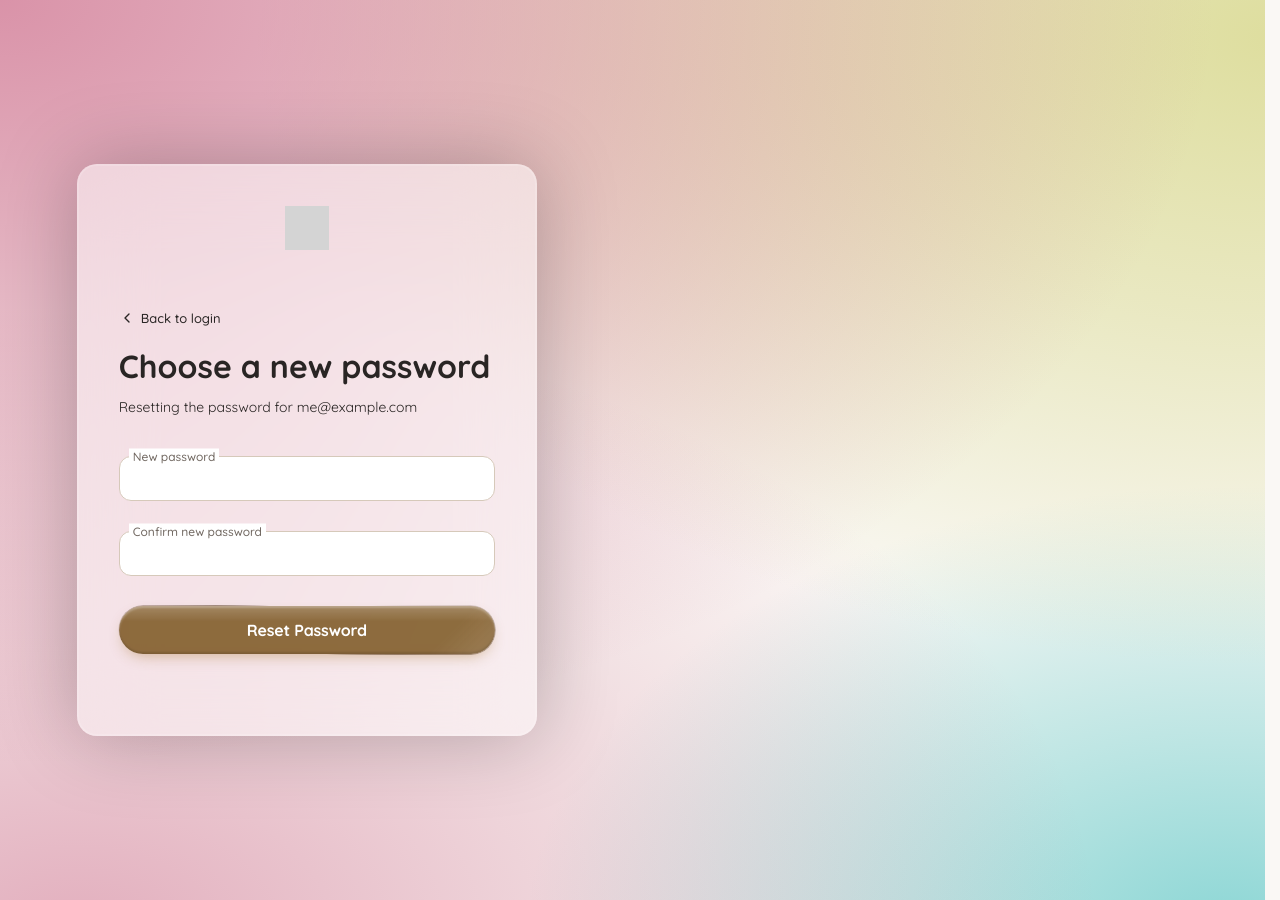
Reset password form › shows an invalid, expired or already used link as such
Type "brand-new-pass-1" into the password field labelled "New password" at [307, 478], box [119,456,495,501]
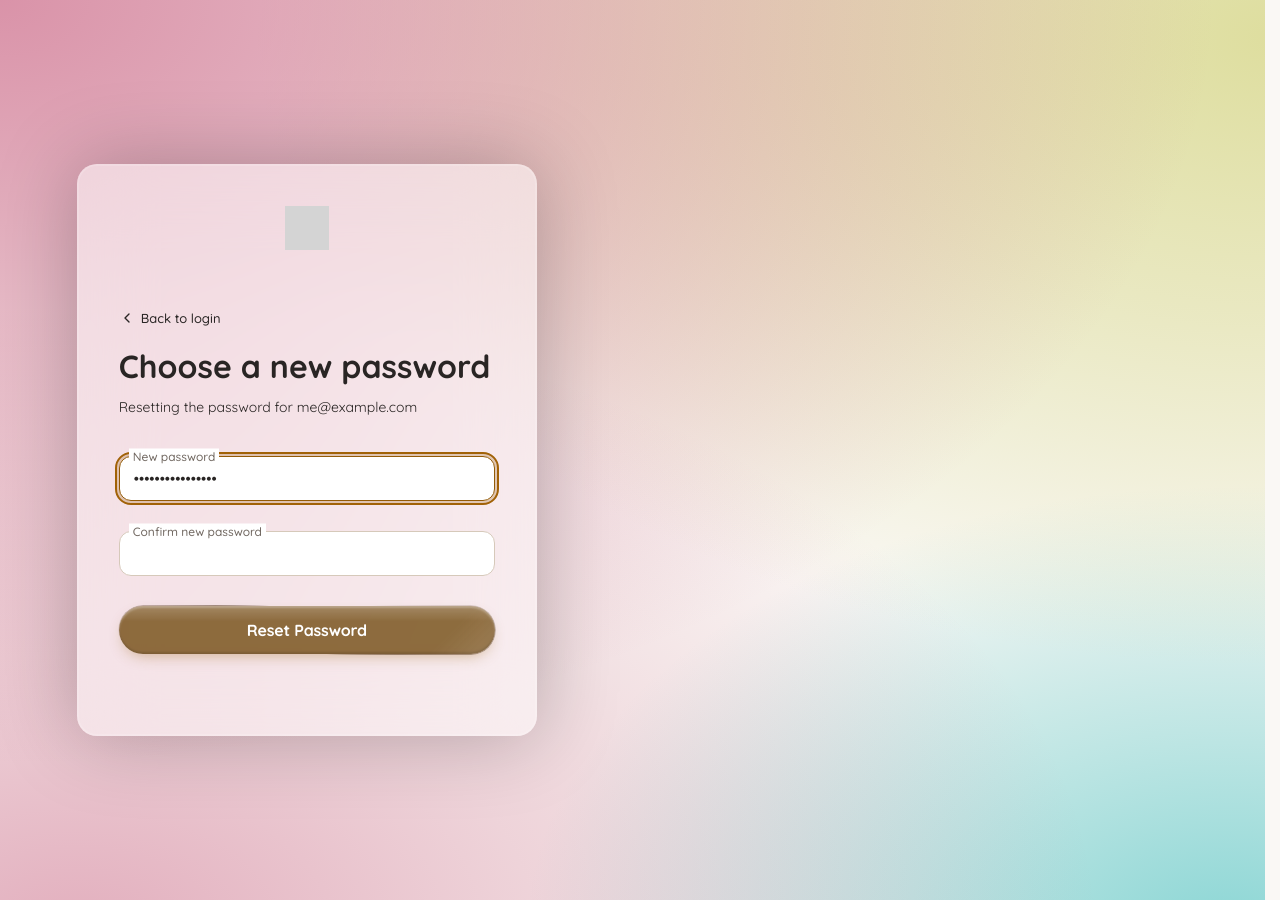
Type "brand-new-pass-1" into the password field labelled "Confirm new password" at [307, 554], box [119,531,495,576]
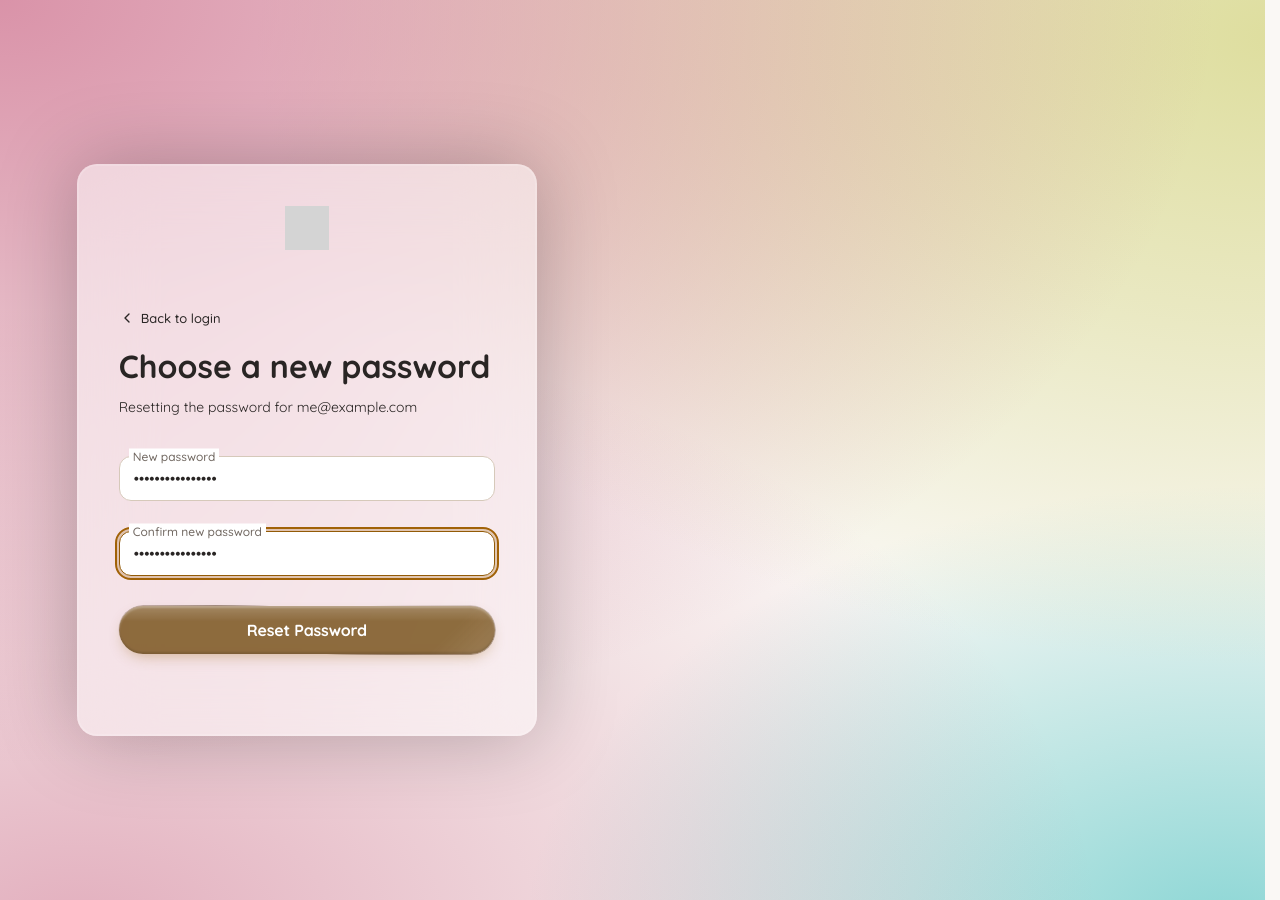
Click the button "Reset Password" at [307, 630], box [119,606,495,654]
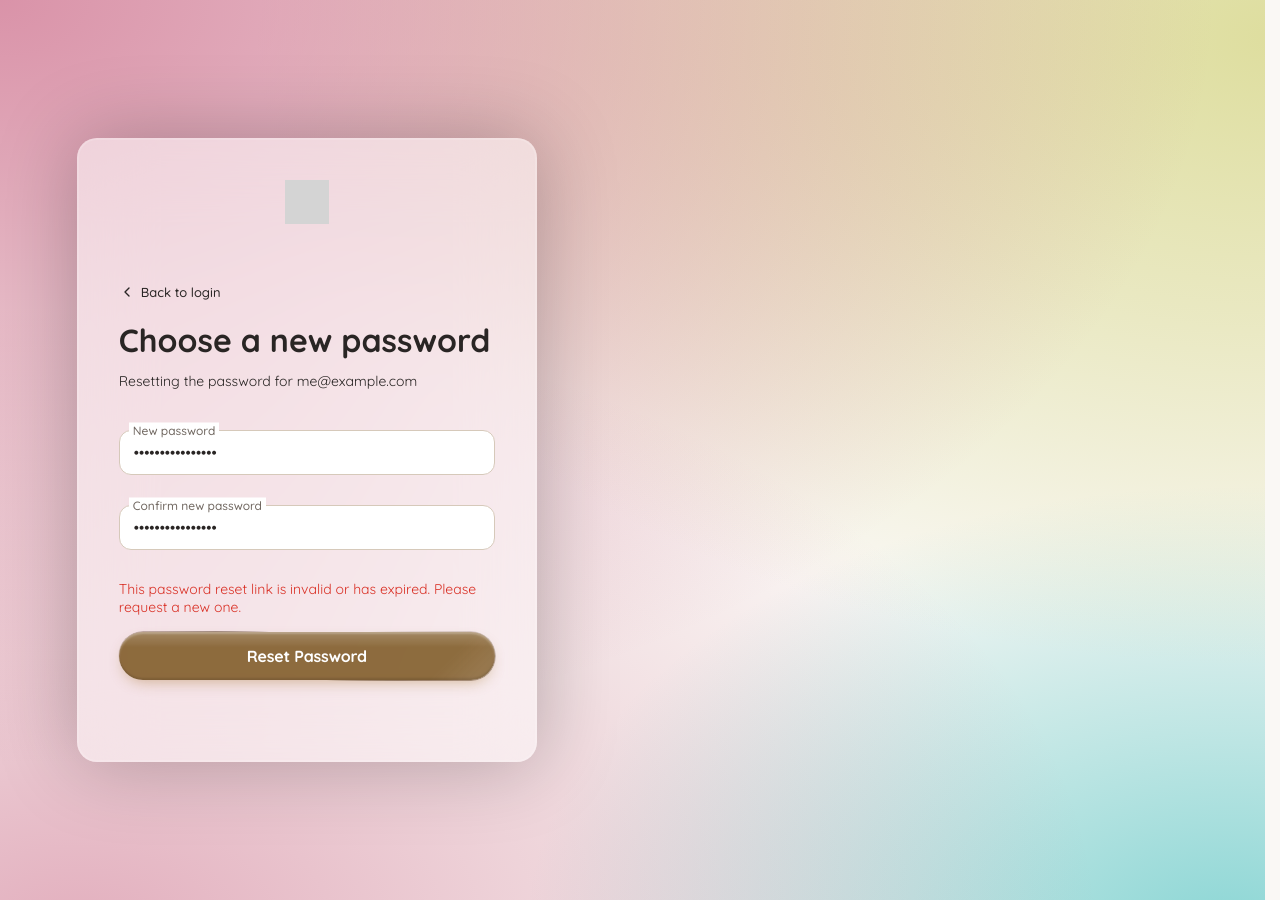
Now the message reads "This password reset link is invalid or has expired. Please request a new one.", box [119,580,476,616]
